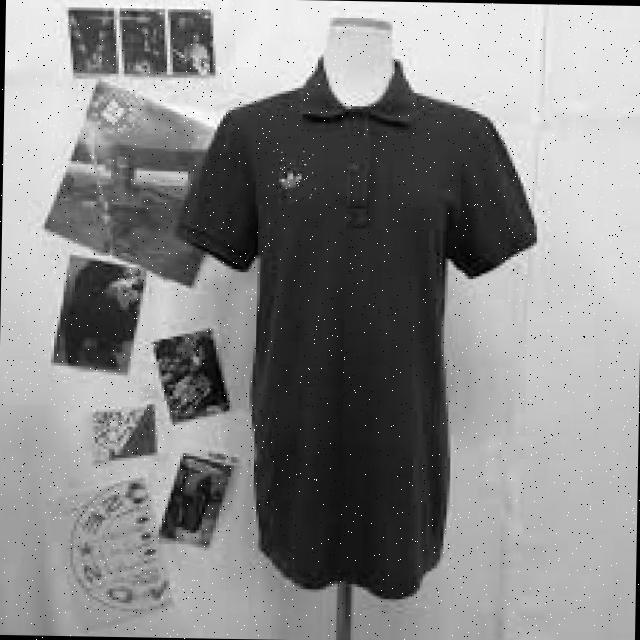Adidas: (264, 150, 316, 202)
